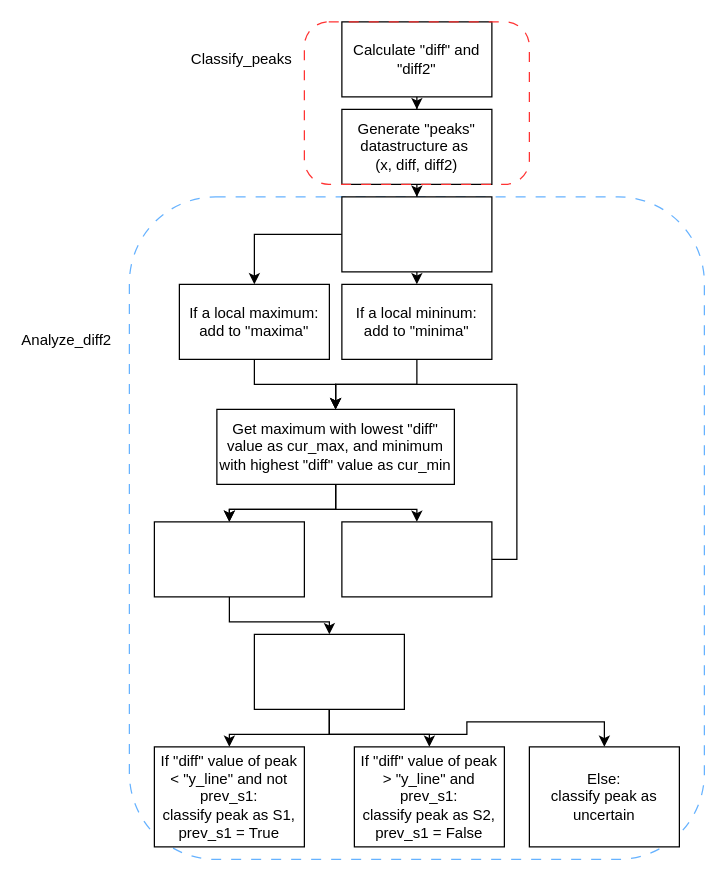
The diagram is 726 pixels wide and 881 high, and some of its shapes have lost their labels. The centre of each missing label's shape, as x and y in pixels:
Compare "diff" value of each peak to "y_line": (x=328, y=671)
Else: remove cur_max and cur_min from maxima and minima: (x=416, y=559)
If cur_max > cur_min: y_line = (cur_max + cur_min) / 2: (x=228, y=559)
Loop through "peaks": (x=416, y=234)
